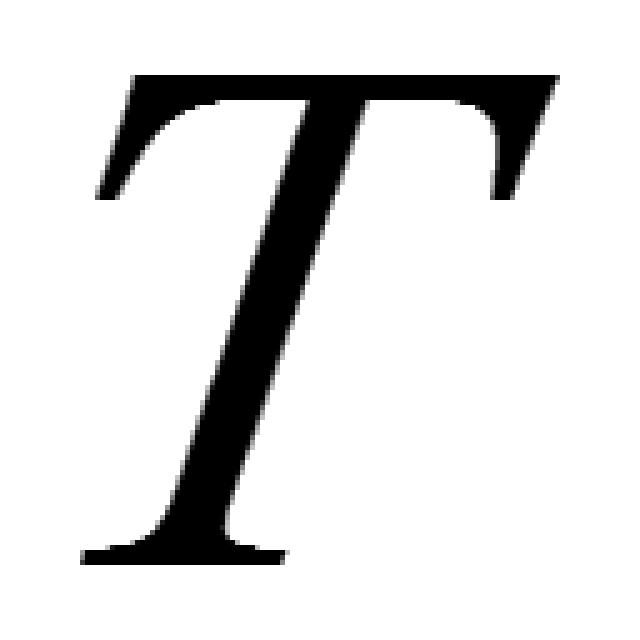T: (70, 60, 560, 570)
